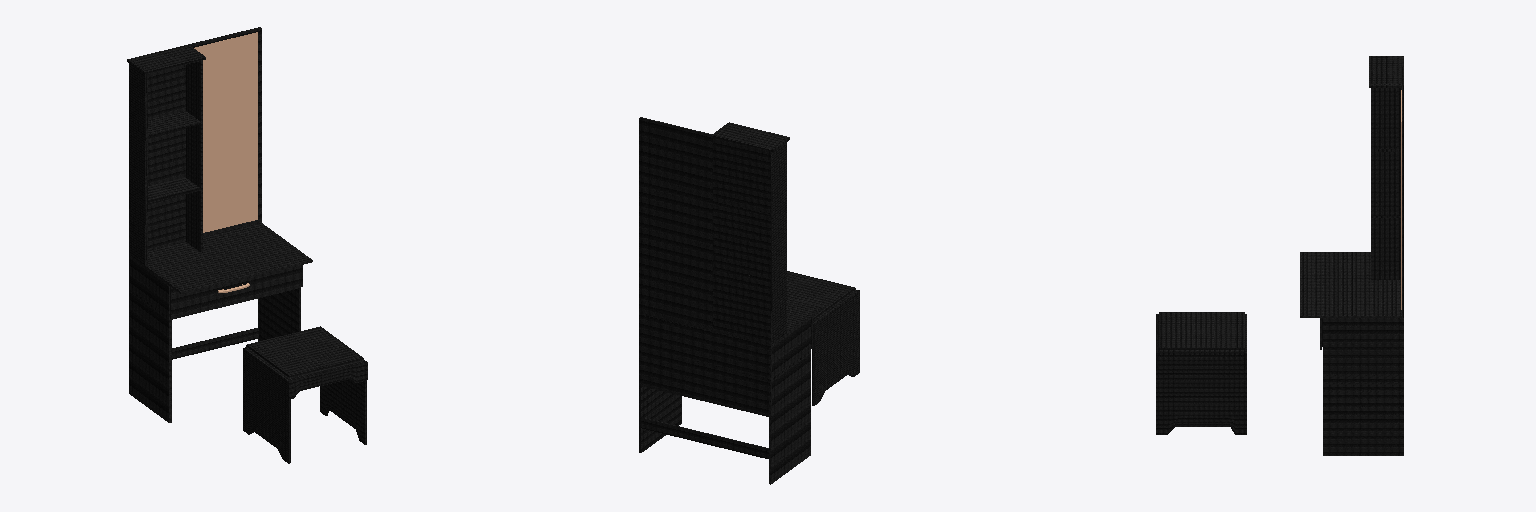
The picture shows the model from 3 angles: view 1: azimuth 30°, elevation 25°; view 2: azimuth 150°, elevation 25°; view 3: azimuth 270°, elevation 25°; orthographic projection.
Visible parts, largest first — view 1: Box017, Box005, Box004, Box015, Box021, Box009, Box026, Box007, Box014, Box020, Box001, Box016 (+5 smaller); view 2: Box016, Box015, Box003, Box004, Box021, Box009, Box001, Box026, Box018, Box010, Box005; view 3: Box001, Box020, Box005, Box014, Box026, Box010.
Boxes of the visible parts, box(x1,y1,x2,y2) form: Box017: box(194, 32, 257, 232); Box005: box(129, 223, 312, 293); Box004: box(129, 257, 171, 422); Box015: box(129, 45, 186, 253); Box021: box(243, 348, 290, 463); Box009: box(130, 60, 147, 265); Box026: box(246, 326, 363, 377); Box007: box(170, 265, 302, 318); Box014: box(186, 61, 202, 251); Box020: box(320, 360, 366, 444); Box001: box(258, 288, 300, 341); Box016: box(189, 27, 261, 236); Box016: box(639, 117, 712, 330); Box015: box(713, 135, 771, 344); Box003: box(639, 315, 771, 416); Box004: box(769, 318, 810, 484); Box021: box(812, 291, 859, 405); Box009: box(771, 137, 786, 343); Box001: box(639, 386, 681, 452); Box026: box(787, 271, 855, 319); Box018: box(641, 418, 768, 458); Box010: box(712, 122, 789, 152); Box005: box(639, 298, 822, 345); Box001: box(1323, 318, 1403, 455); Box020: box(1156, 352, 1246, 434); Box005: box(1300, 252, 1401, 317); Box014: box(1371, 84, 1401, 279); Box026: box(1159, 312, 1244, 349); Box010: box(1369, 56, 1403, 87).
Bounding box in the file's own units: 30.38 × 72.98 × 49.08.
Materials: 2 (1 with a texture image).